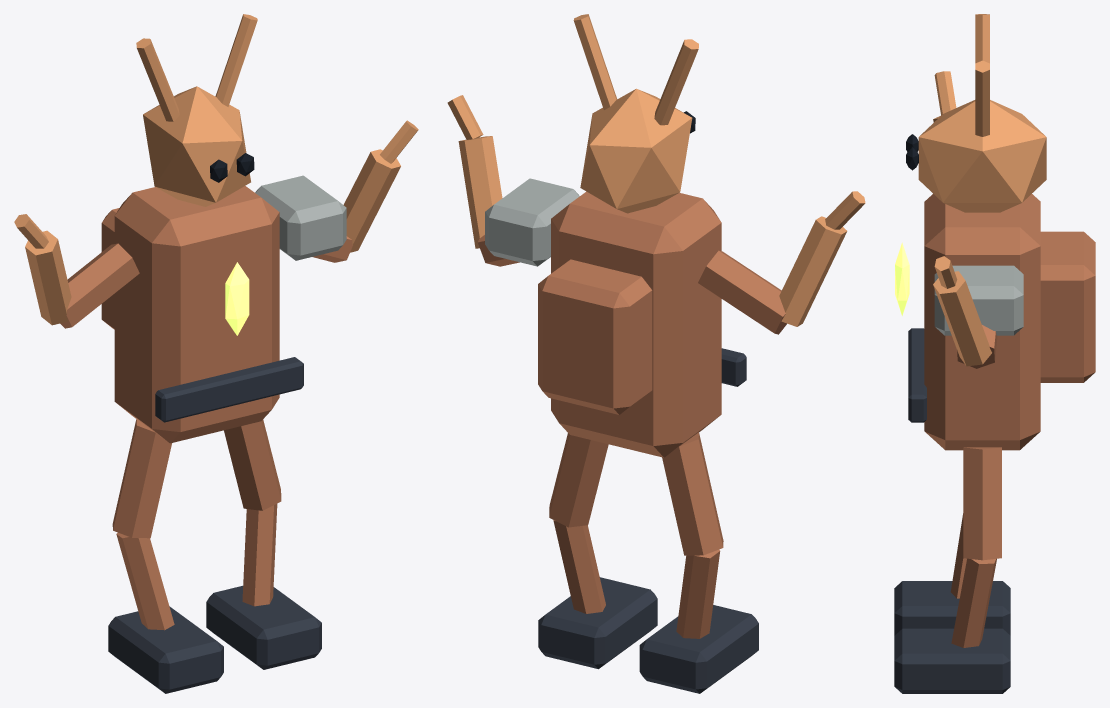
File: npcs_009_seed11.glb
3 views of the same model, side by side, from view 1: azimuth 30°, elevation 25°; view 2: azimuth 150°, elevation 25°; view 3: azimuth 270°, elevation 25° (orthographic). The views are drawn at different scales.
Visible parts, largest first — view 1: npcs_009_seed11; view 2: npcs_009_seed11; view 3: npcs_009_seed11.
Part boxes in pixels (left/top/right/bottom): npcs_009_seed11: left=14, top=14, right=418, bottom=693; npcs_009_seed11: left=447, top=14, right=865, bottom=693; npcs_009_seed11: left=894, top=14, right=1095, bottom=693.
Bounding box in the file's own units: 1.39 × 2.05 × 0.603.
